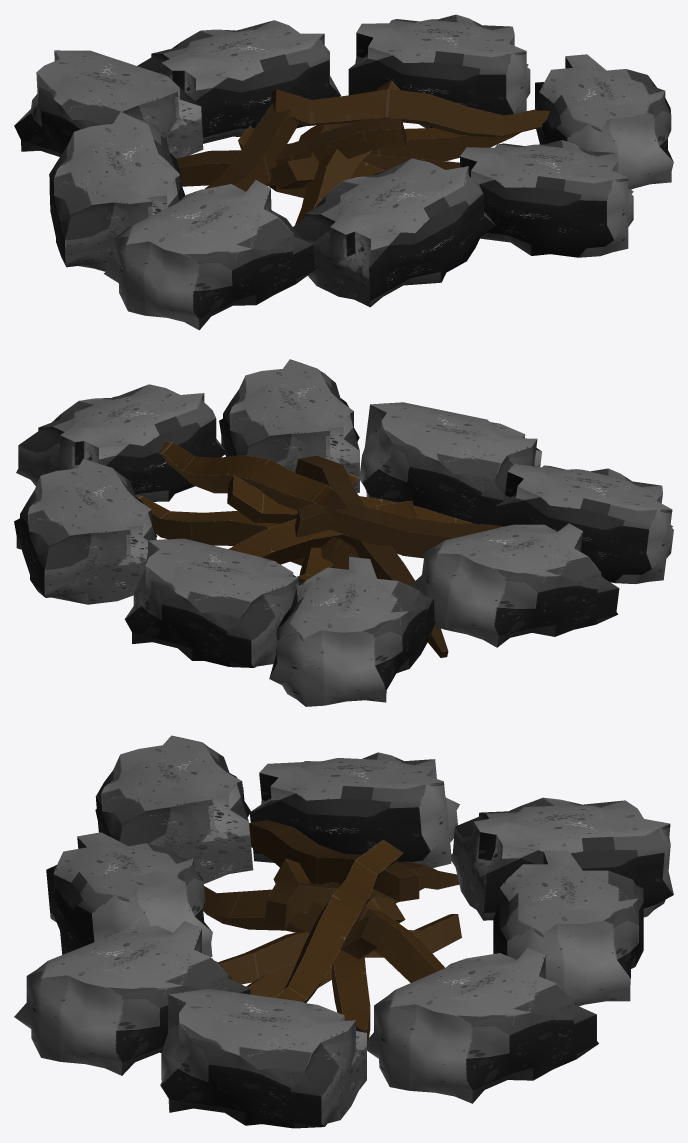
Rendered from Campfire.fbx.
3 renders of one model, top to bottom at view 1: azimuth 30°, elevation 25°; view 2: azimuth 150°, elevation 25°; view 3: azimuth 270°, elevation 25°, orthographic. The views are drawn at different scales.
Visible parts, largest first — view 1: pCube12, pCube13, pCube14, pCube9, pCube7, pCube10, pCube8, pCube11, pCube16, pCube5, pCube15, pCube1 (+4 smaller); view 2: pCube9, pCube8, pCube7, pCube10, pCube13, pCube11, pCube12, pCube14, pCube16, pCube15, pCube5, pCube1 (+4 smaller); view 3: pCube10, pCube11, pCube14, pCube9, pCube7, pCube8, pCube12, pCube13, pCube16, pCube15, pCube4, pCube3 (+4 smaller).
Boxes of the visible parts, bbox=[...] form: pCube12: bbox=[104, 180, 317, 330]; pCube13: bbox=[293, 158, 495, 307]; pCube14: bbox=[460, 140, 633, 257]; pCube9: bbox=[49, 111, 185, 271]; pCube7: bbox=[137, 20, 340, 143]; pCube10: bbox=[348, 14, 530, 128]; pCube8: bbox=[14, 50, 203, 158]; pCube11: bbox=[535, 54, 673, 189]; pCube16: bbox=[271, 89, 549, 137]; pCube5: bbox=[176, 118, 406, 186]; pCube15: bbox=[205, 95, 300, 191]; pCube1: bbox=[269, 109, 536, 197]; pCube9: bbox=[409, 523, 619, 647]; pCube8: bbox=[269, 556, 435, 706]; pCube7: bbox=[124, 538, 303, 667]; pCube10: bbox=[14, 458, 156, 604]; pCube13: bbox=[359, 402, 541, 524]; pCube11: bbox=[16, 384, 225, 501]; pCube12: bbox=[493, 464, 673, 584]; pCube14: bbox=[219, 359, 359, 492]; pCube16: bbox=[158, 441, 346, 521]; pCube15: bbox=[295, 500, 501, 558]; pCube5: bbox=[295, 456, 448, 657]; pCube1: bbox=[135, 495, 334, 568]; pCube10: bbox=[367, 947, 598, 1103]; pCube11: bbox=[160, 988, 366, 1128]; pCube14: bbox=[14, 921, 250, 1075]; pCube9: bbox=[250, 752, 459, 867]; pCube7: bbox=[493, 850, 643, 1006]; pCube8: bbox=[451, 797, 673, 920]; pCube12: bbox=[95, 735, 253, 883]; pCube13: bbox=[46, 832, 212, 956]; pCube16: bbox=[275, 840, 403, 1002]; pCube15: bbox=[249, 820, 419, 901]; pCube4: bbox=[203, 886, 387, 959]; pCube3: bbox=[218, 914, 461, 984].
Size of the model in its own units: 5068 by 875 by 4307.
